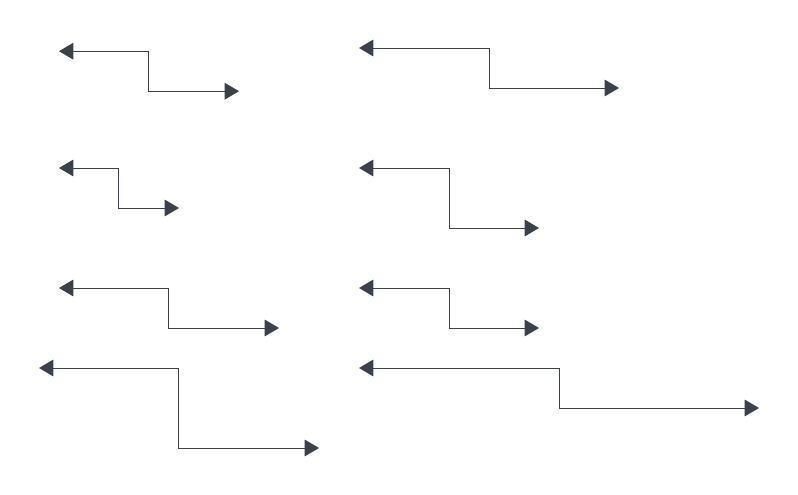bi_horizontal: (38, 352, 323, 465), (358, 355, 759, 424), (356, 33, 621, 105), (54, 270, 279, 343), (358, 157, 541, 244), (56, 34, 242, 105), (359, 271, 541, 342), (56, 156, 178, 218)
